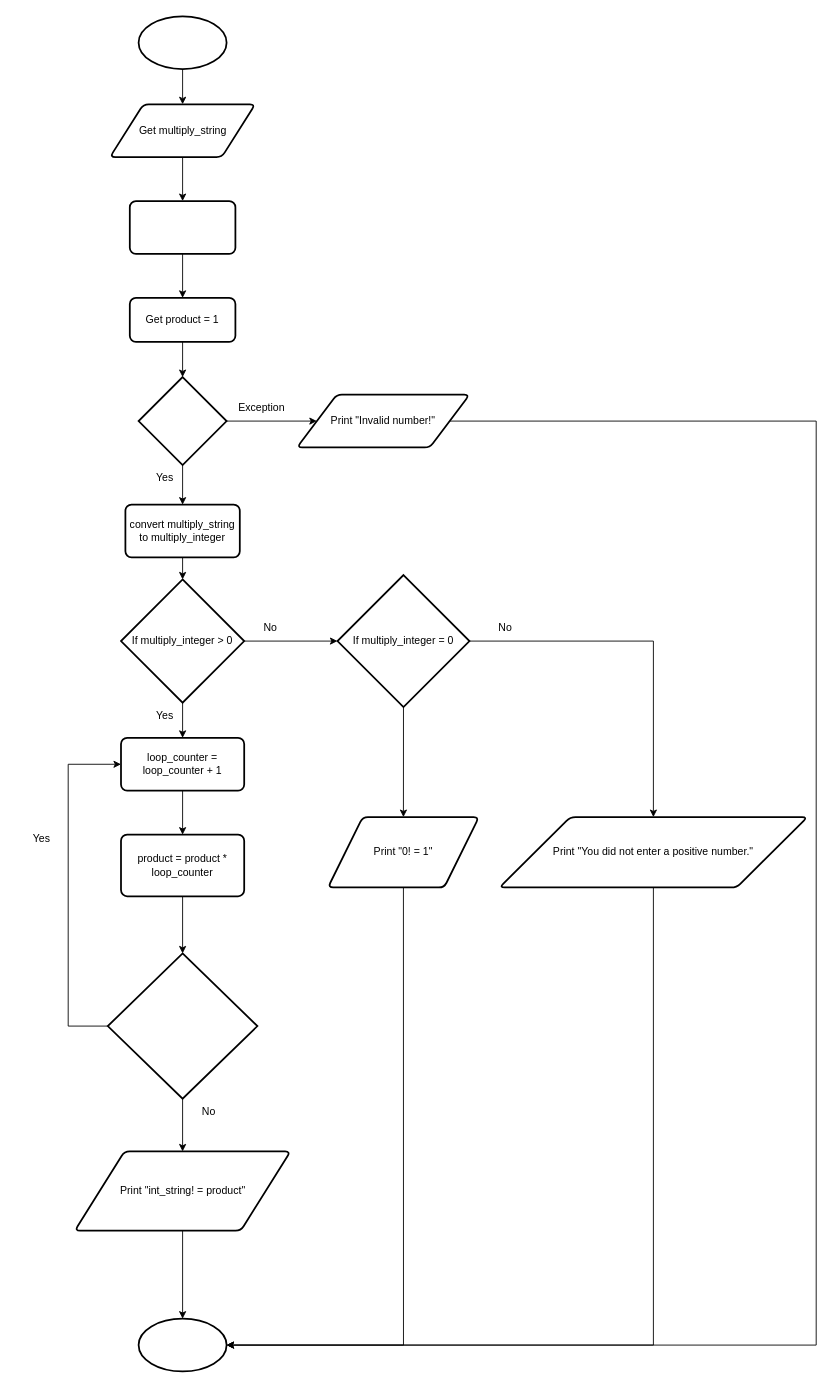
Image size: 839x1387. Some labels were removed from this diagram. The shapes that lost their labels are listed below. From the top down, each one's centre as x and y in pixels, then its label:
the point at 182,42: Start
the point at 182,227: Get loop_counter = 0
the point at 182,421: try
the point at 182,1025: While loop_counter < multiply_integer
the point at 182,1344: Stop
